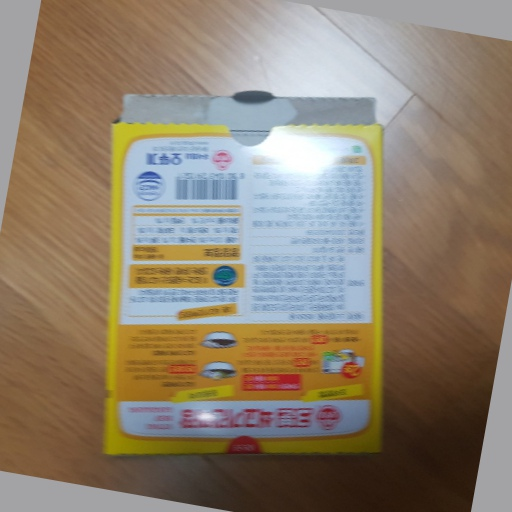Paper_0: (101, 83, 395, 467)
